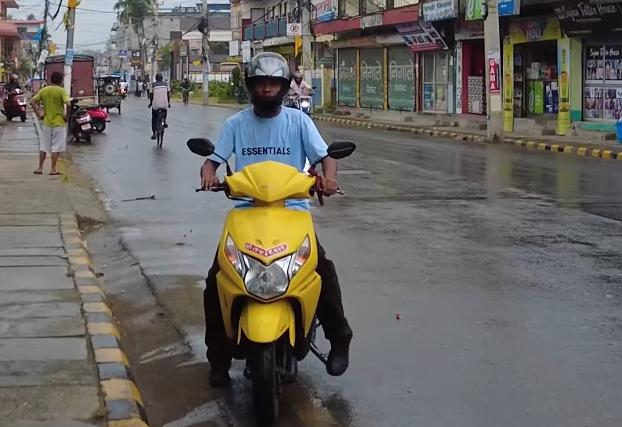scooter: (178, 127, 375, 427)
